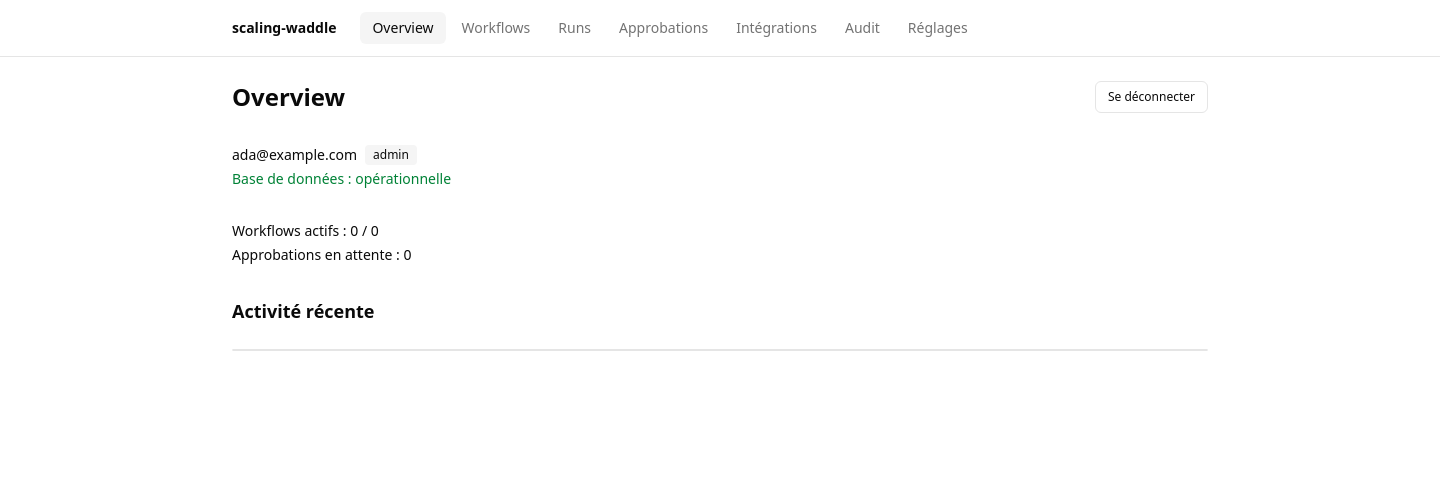
Test: App routing › opens the integrations and audit pages from the navigation
Click the link "Intégrations": (776,28) [736,18,817,37]
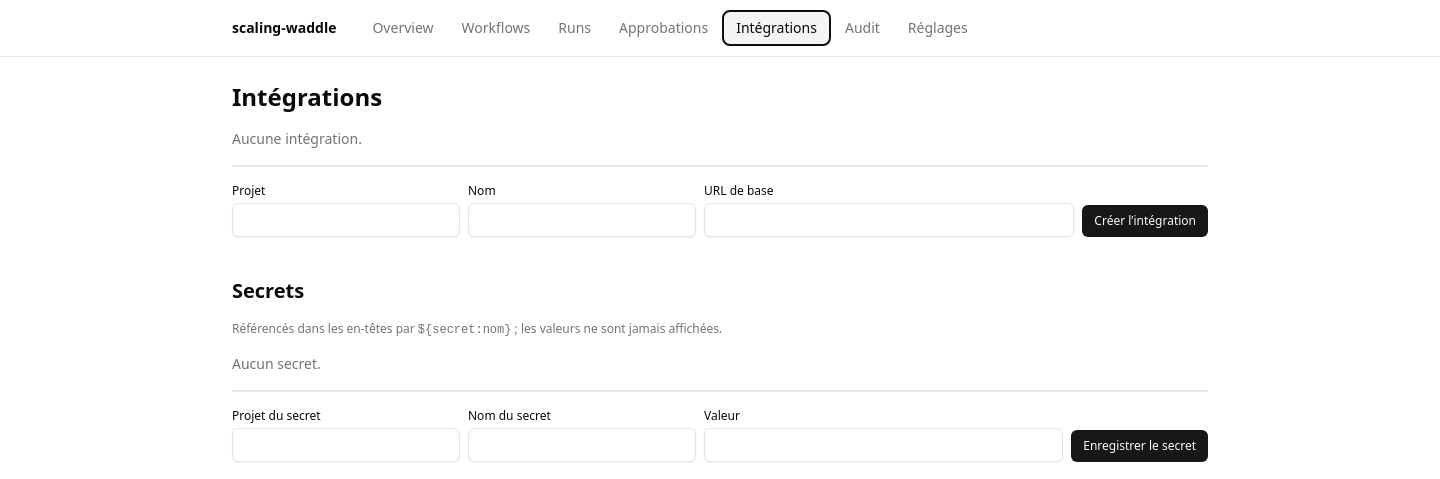
Expected: the text "Aucune intégration." is shown, [232,129,362,148]
Click the link "Audit": (862,28) [845,18,880,37]
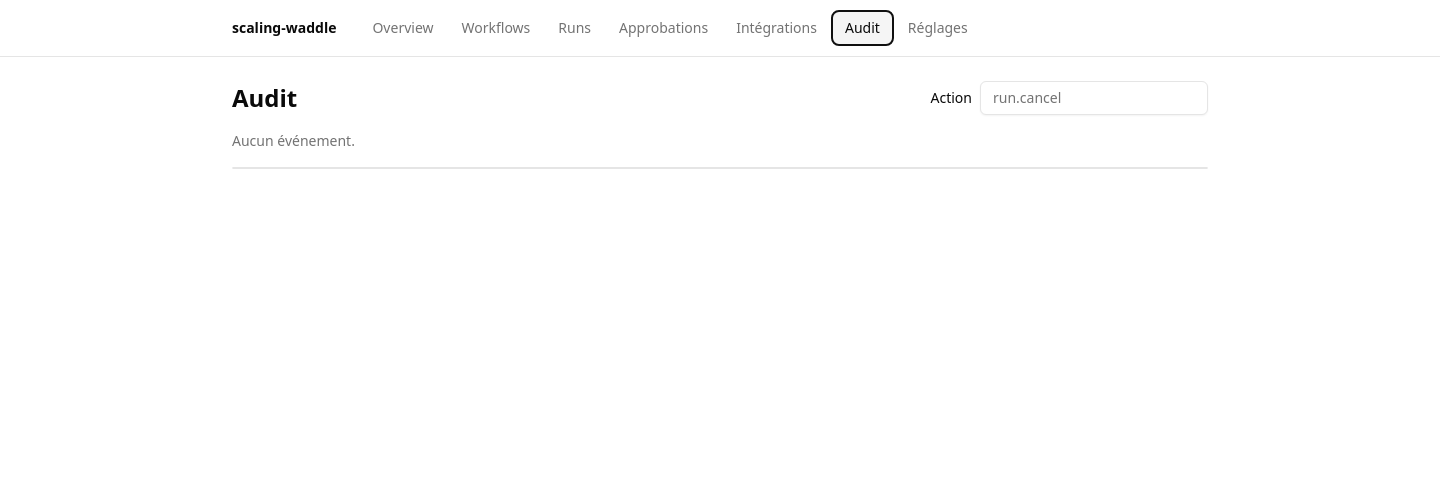
Expected: the text "Aucun événement." is shown, [232,131,355,150]
